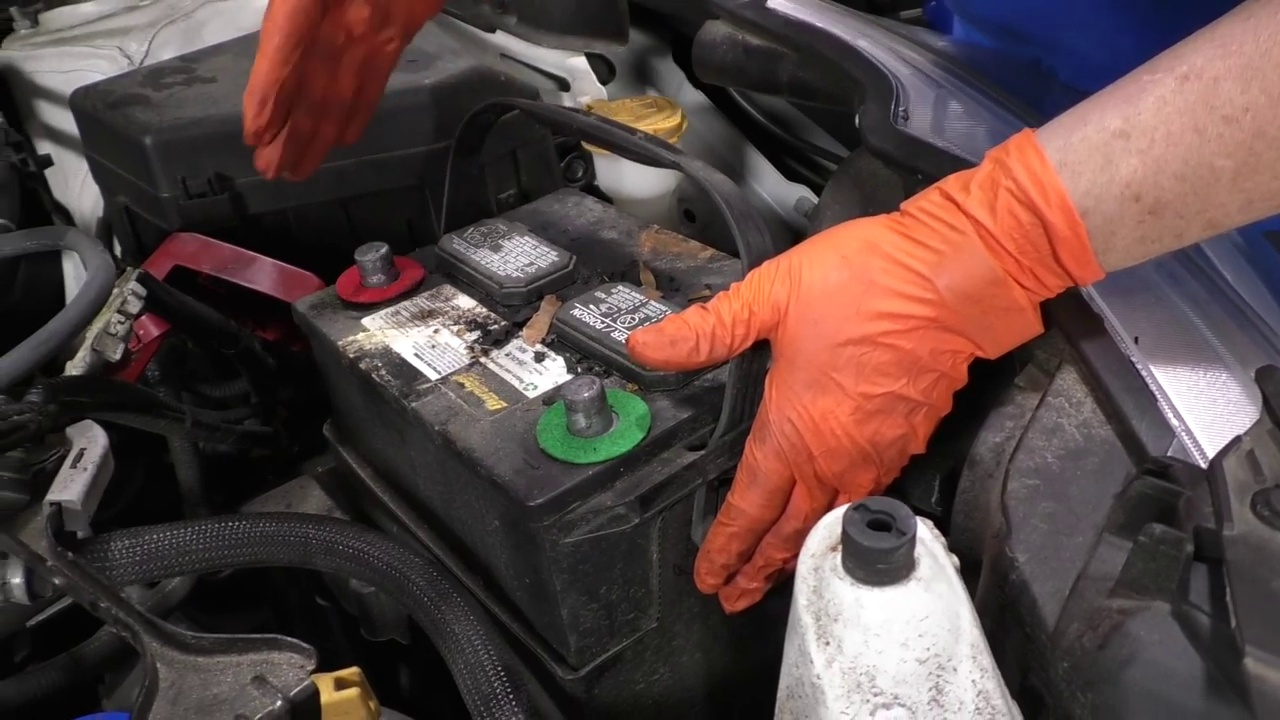battery: (302, 186, 803, 492)
neg_disconnected: (516, 347, 641, 469)
neg_touched: (527, 290, 777, 506)
pos_disconnected: (132, 217, 425, 348)
